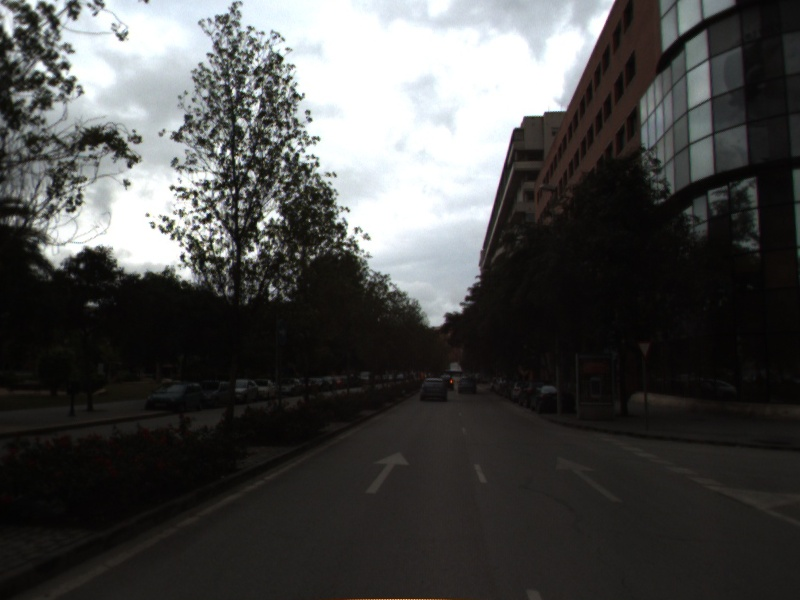STRAIGHT: (554, 454, 626, 505), (363, 450, 413, 496)
